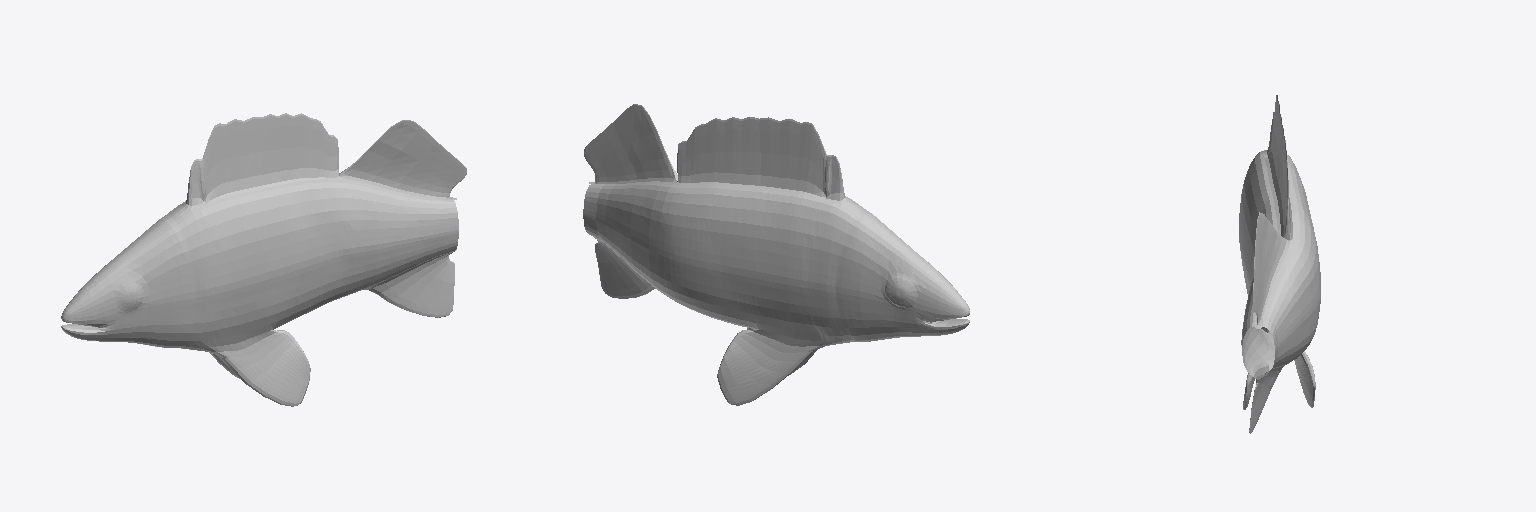
Rendered from bassFront.obj.
3 renders of one model, left to right at view 1: azimuth 30°, elevation 25°; view 2: azimuth 150°, elevation 25°; view 3: azimuth 270°, elevation 25°, orthographic.
Parts seen in each view (by area): view 1: polySurface1 Mesh; view 2: polySurface1 Mesh; view 3: polySurface1 Mesh.
Part boxes in pixels (left/top/right/bottom): polySurface1 Mesh: left=61, top=113, right=466, bottom=406; polySurface1 Mesh: left=583, top=104, right=969, bottom=405; polySurface1 Mesh: left=1239, top=95, right=1320, bottom=433.
Bounding box in the file's own units: 4.31 × 2.97 × 0.7824.